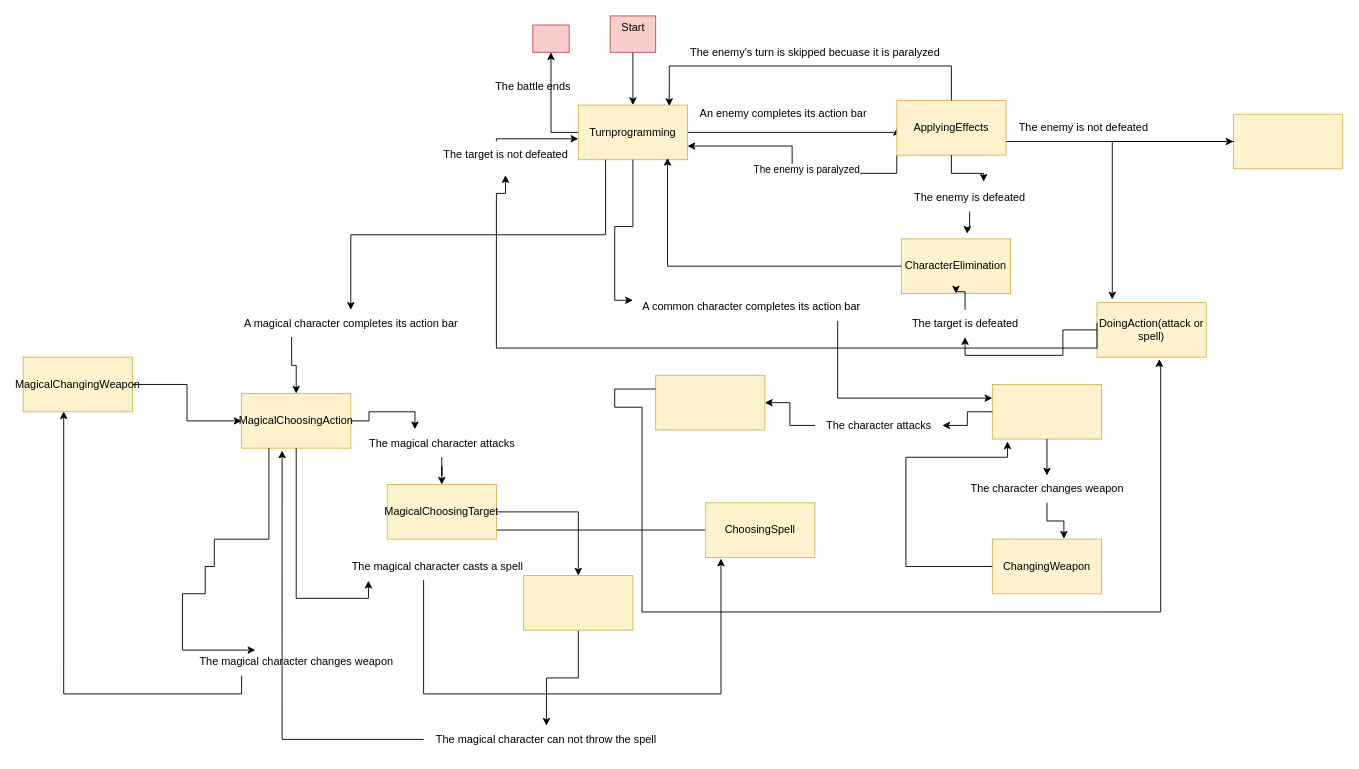
Some shapes in this 1359 by 769 pixel diagram are drawn without their labels. The centre of each missing label's shape, as x and y in pixels:
"ChoosingAction" goes at point (1046, 411).
"ChoosingTarget" goes at point (710, 402).
"End" goes at point (550, 38).
"EnemyChoosingTarget" goes at point (1288, 141).
"MagicalDoingAction" goes at point (578, 602).
